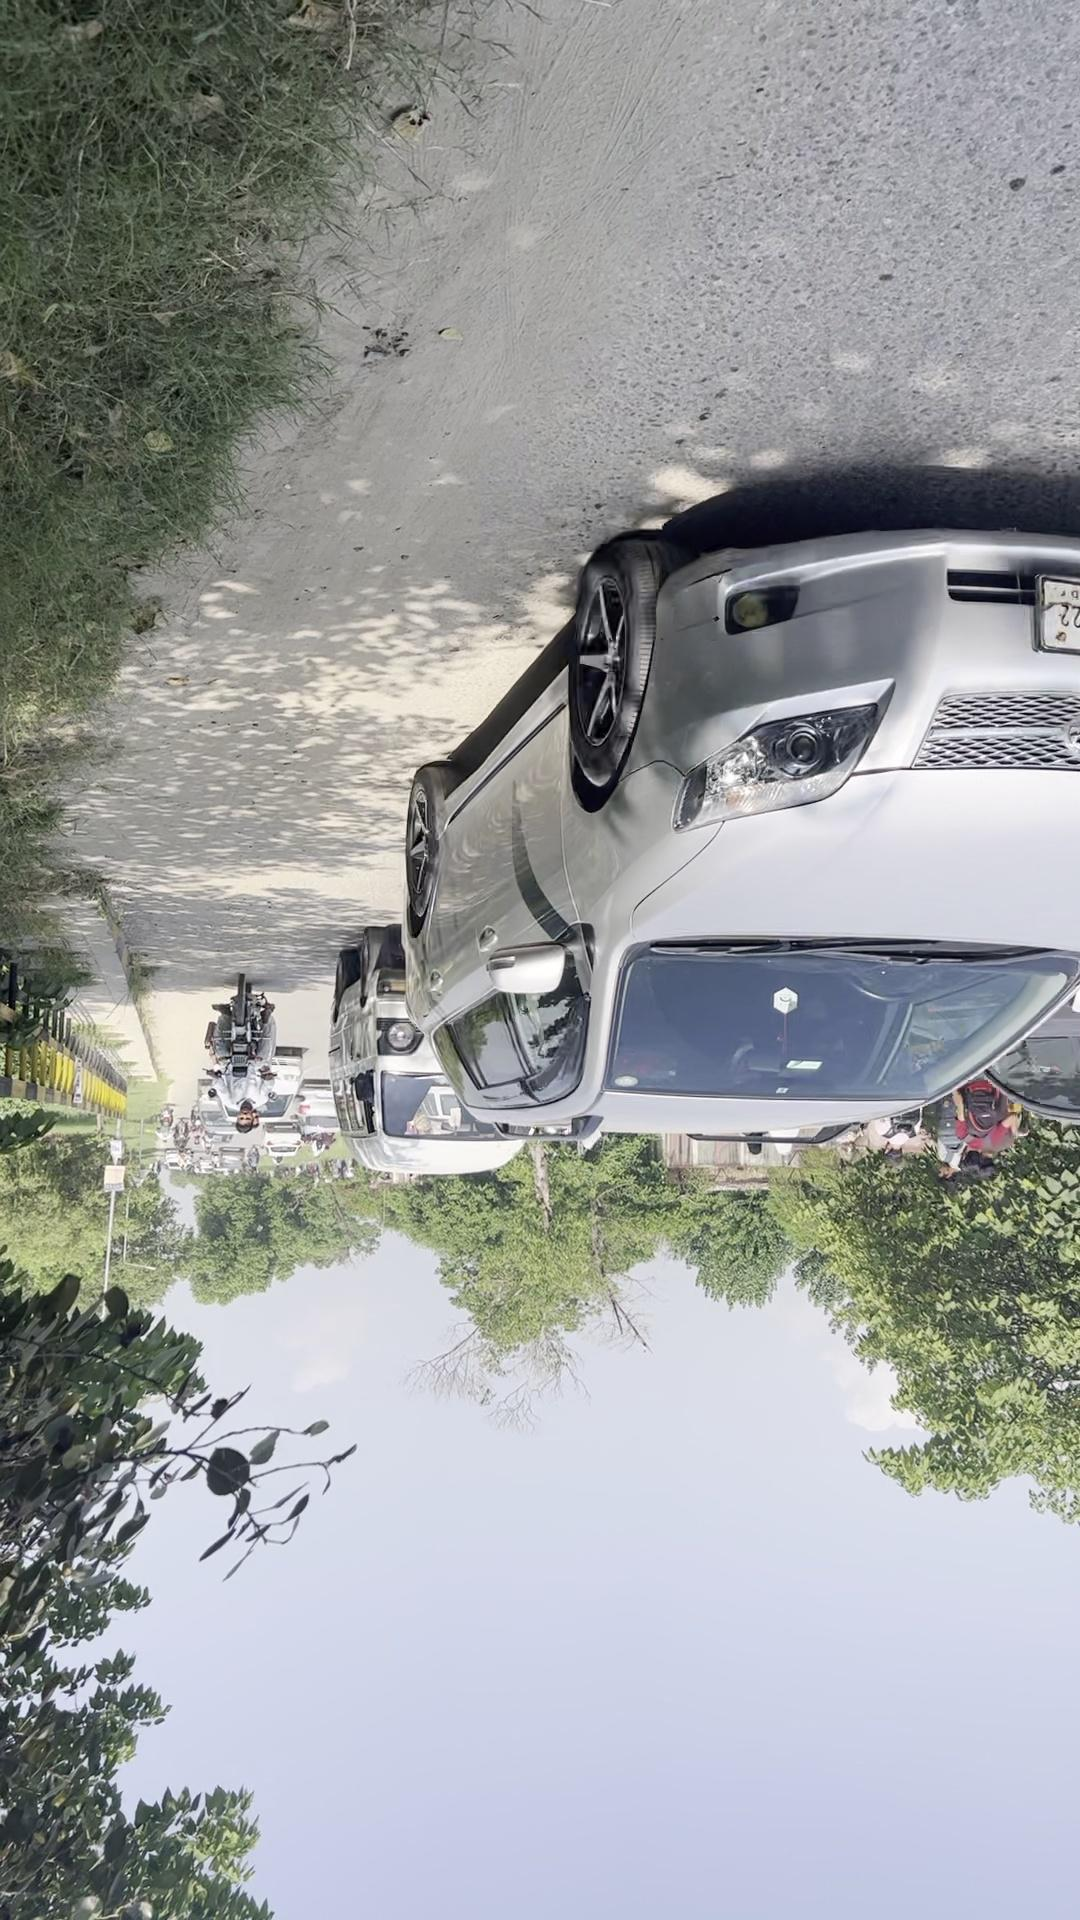windshield: (16, 804, 491, 971)
